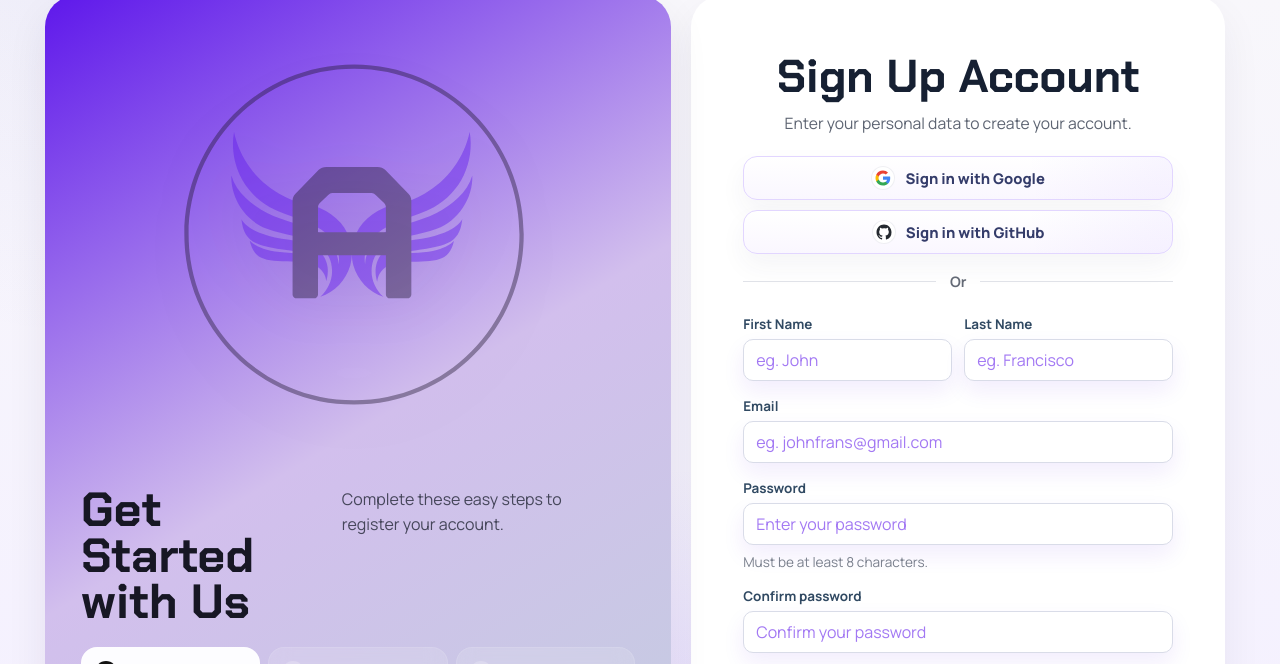
Test: RegisterPage › shows validation error when email is invalid
Step 1. Type "New" into the field labelled "First Name" → (848,360), box [743, 339, 952, 381]
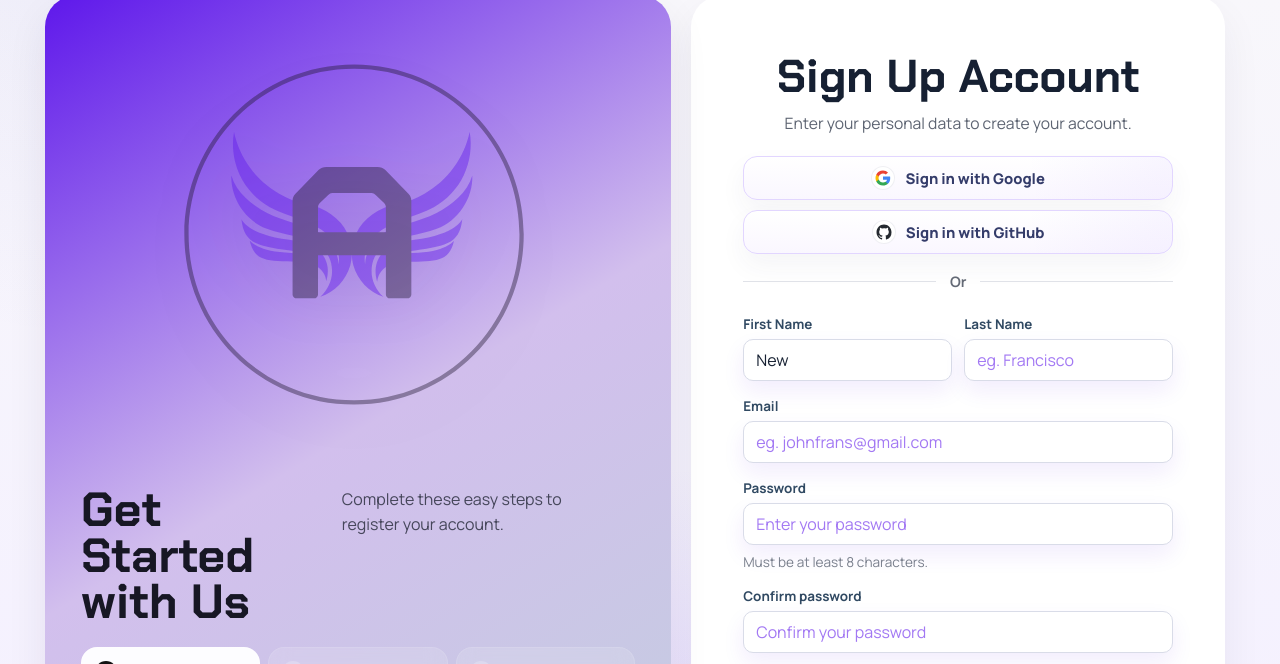
Step 2. Type "User" into the field labelled "Last Name" → (1069,360), box [964, 339, 1173, 381]
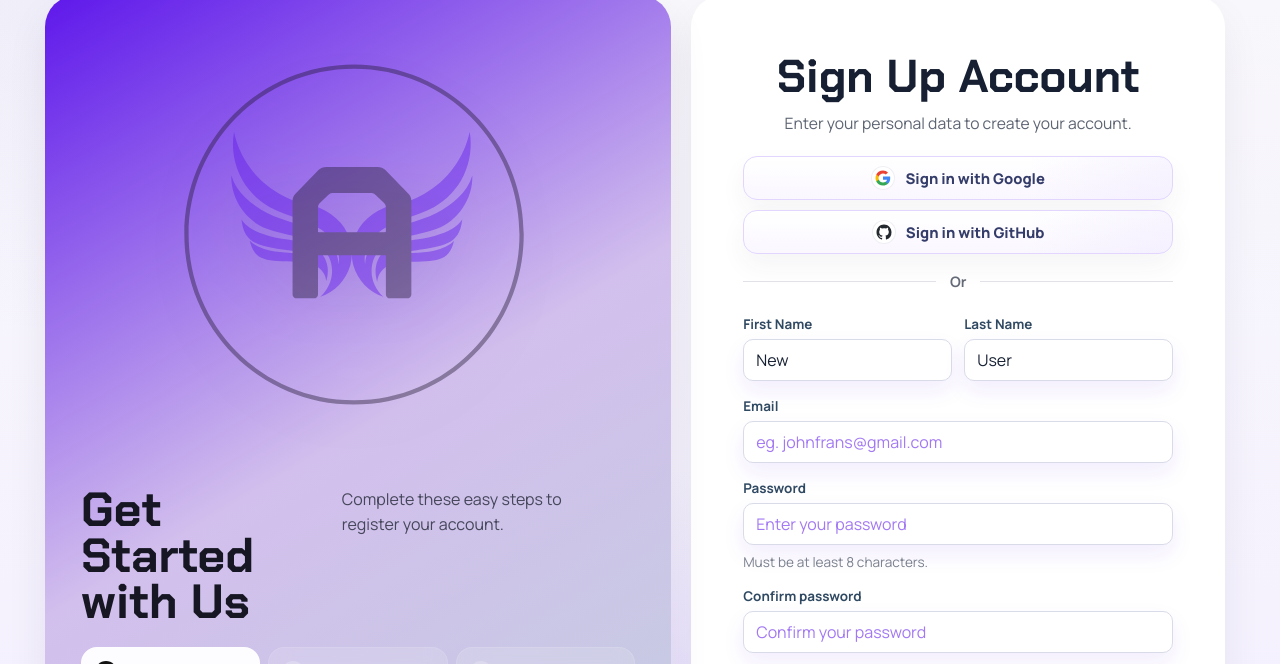
Step 3. Type "invalid-email" into the field labelled "Email" → (958,442), box [743, 421, 1173, 463]
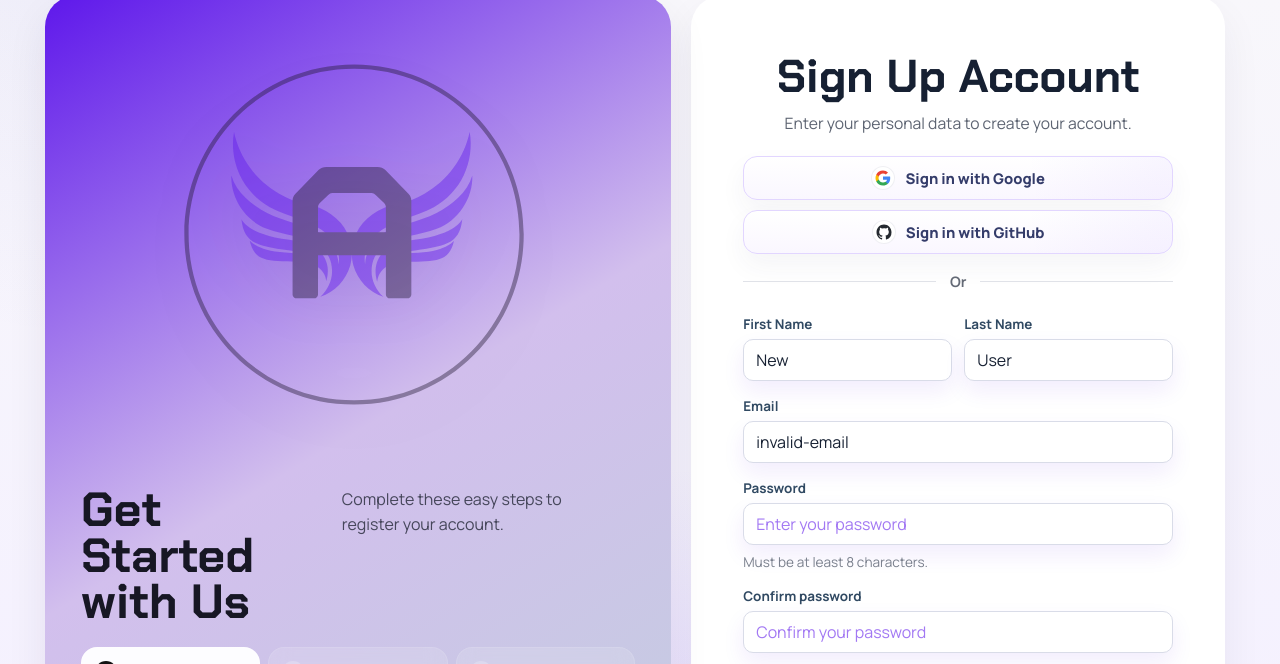
Step 4. Type "strongpass123" into the password field labelled "Password" → (958,524), box [743, 503, 1173, 545]
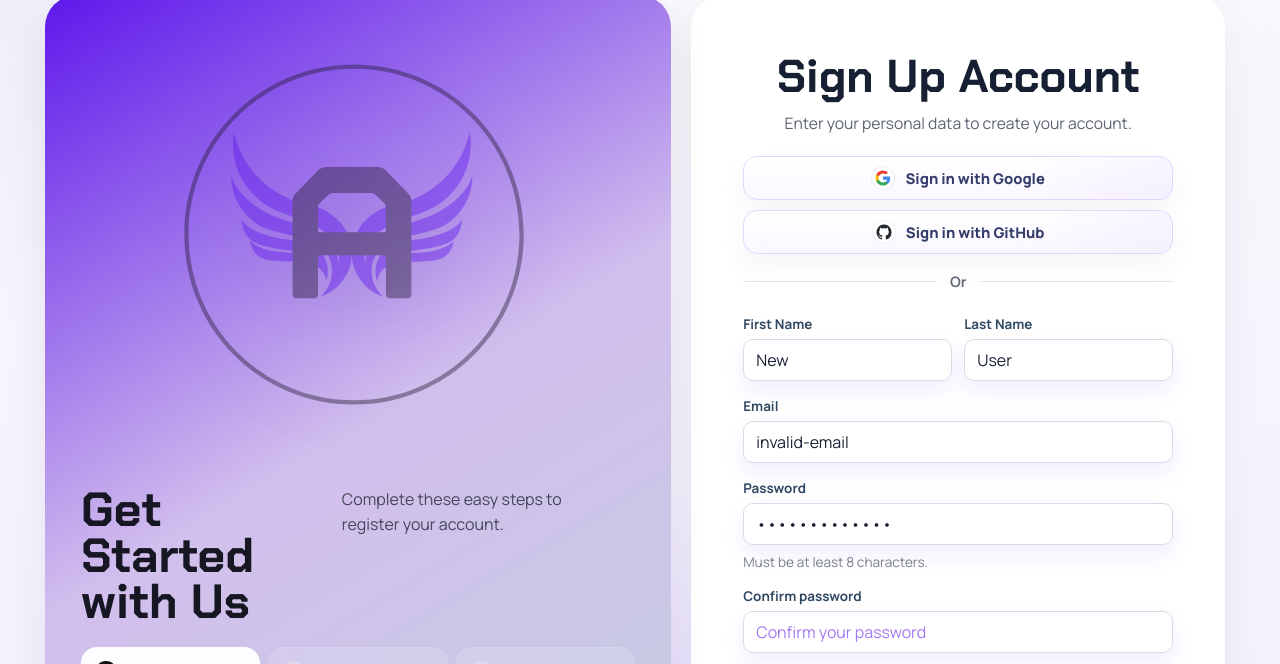
Step 5. Type "strongpass123" into the password field labelled "Confirm password" → (958,632), box [743, 611, 1173, 653]
(page scrolled)
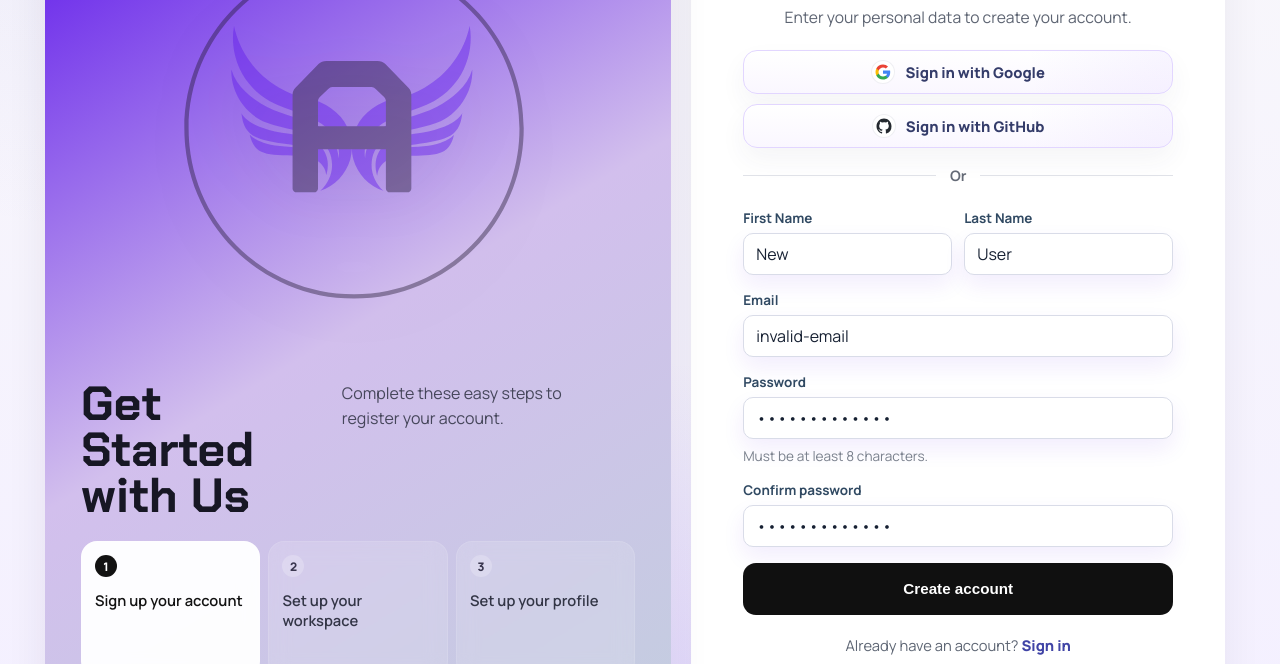
Step 6. Click the button "Create account" → (958,589), box [743, 563, 1173, 615]
(page scrolled)
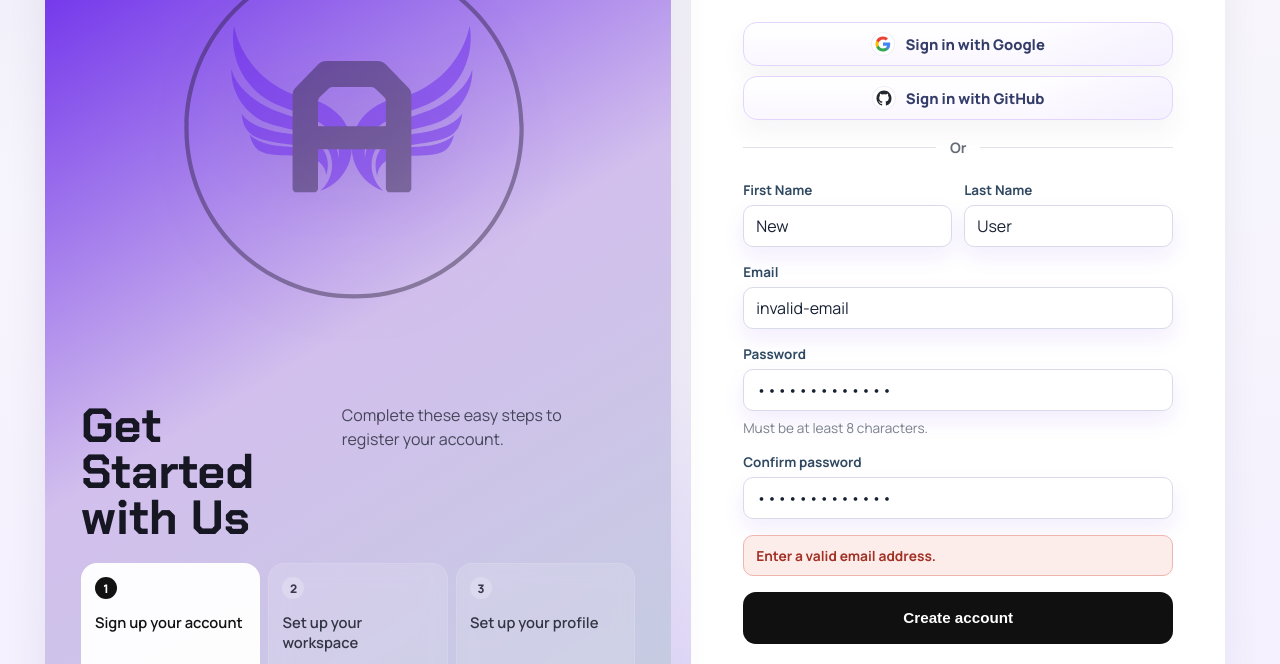
Expected: the text "Enter a valid email address." is shown, [743, 535, 1173, 576]
